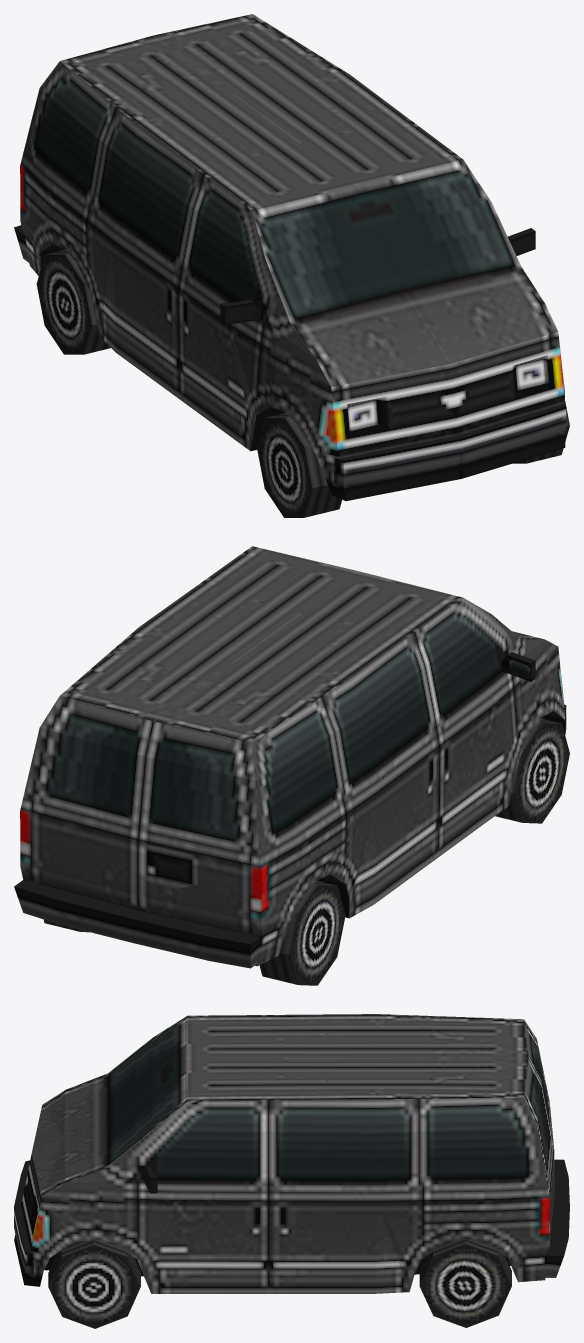
The model's file is Auto5gris.fbx.
3 renders of one model, top to bottom at view 1: azimuth 30°, elevation 25°; view 2: azimuth 150°, elevation 25°; view 3: azimuth 270°, elevation 25°, orthographic. The views are drawn at different scales.
Visible parts, largest first — view 1: Car4; view 2: Car4; view 3: Car4.
Part boxes in pixels (x1,y1,x2,y2): Car4: (14,14,569,517); Car4: (14,546,569,985); Car4: (14,1014,569,1328).
Size of the model in its own units: 340 by 274 by 630.
1 material, 1 textured.
